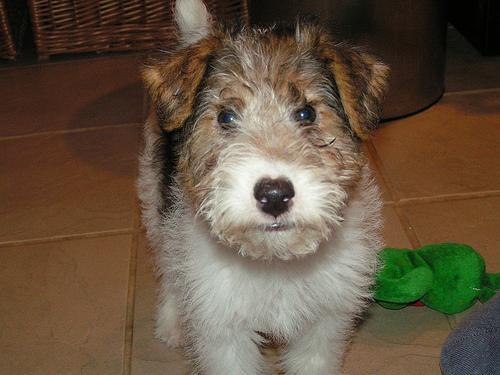wire-haired_fox_terrier: (137, 1, 393, 374)
